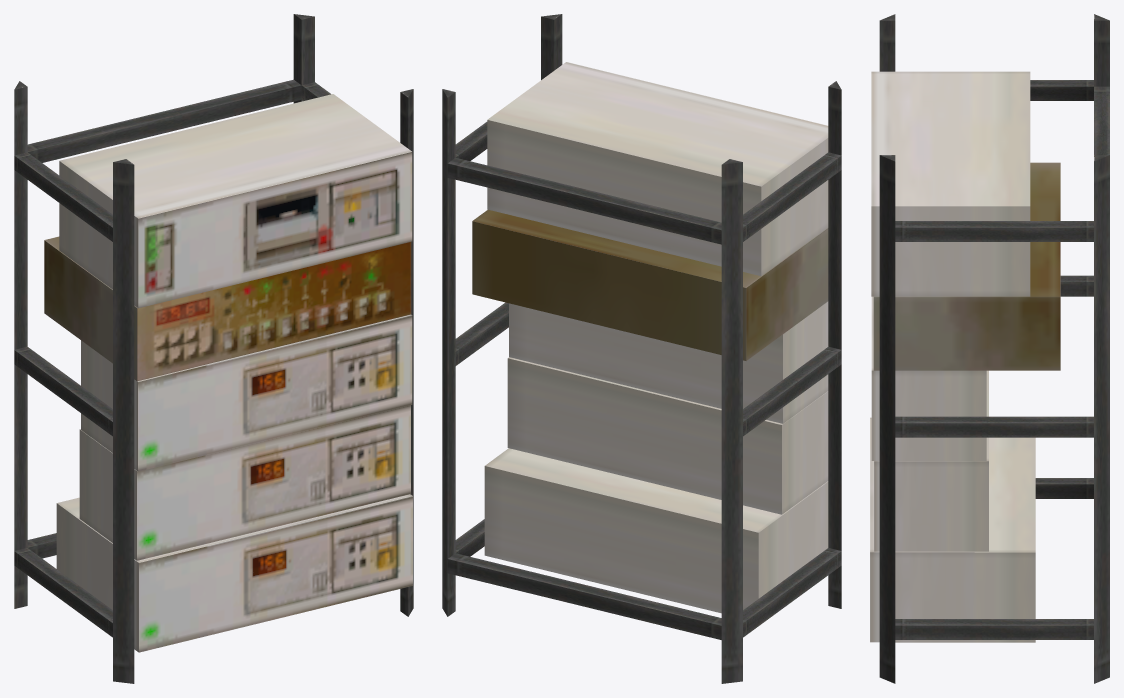
File: MFrame5.glb
3 renders of one model, left to right at view 1: azimuth 30°, elevation 25°; view 2: azimuth 150°, elevation 25°; view 3: azimuth 270°, elevation 25°, orthographic.
Parts seen in each view (by area): view 1: MFRAME5; view 2: MFRAME5; view 3: MFRAME5.
Part boxes in pixels (x1=…): MFRAME5: x1=14, y1=14, x2=413, y2=683; MFRAME5: x1=442, y1=14, x2=841, y2=683; MFRAME5: x1=870, y1=14, x2=1109, y2=683.
Size of the model in its own units: 0.878 by 1.45 by 0.603.
1 material, 1 textured.
